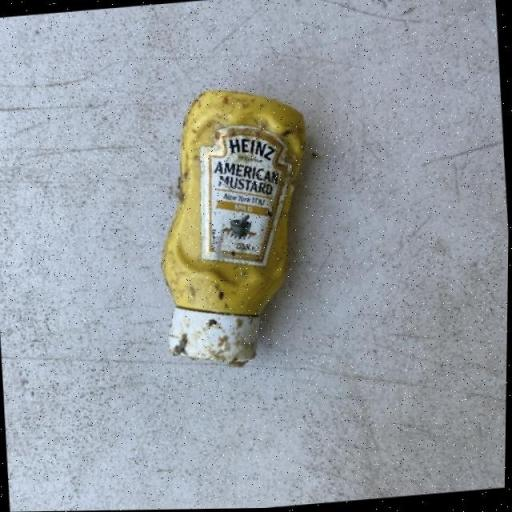plastic: (147, 82, 322, 370)
